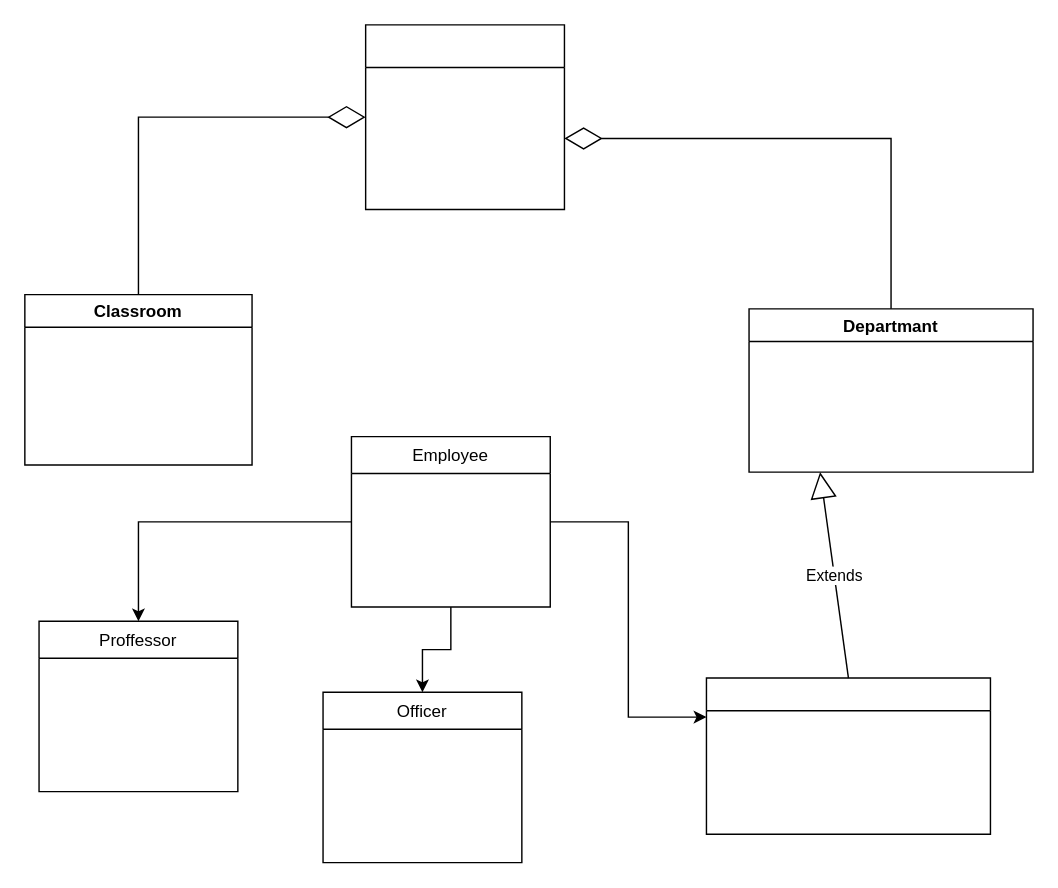
The diagram is 1058 pixels wide and 888 high, and some of its shapes have lost their labels. Each missing label, with the box of its shape:
Office: (705, 677, 990, 834)
University: (364, 23, 564, 209)
